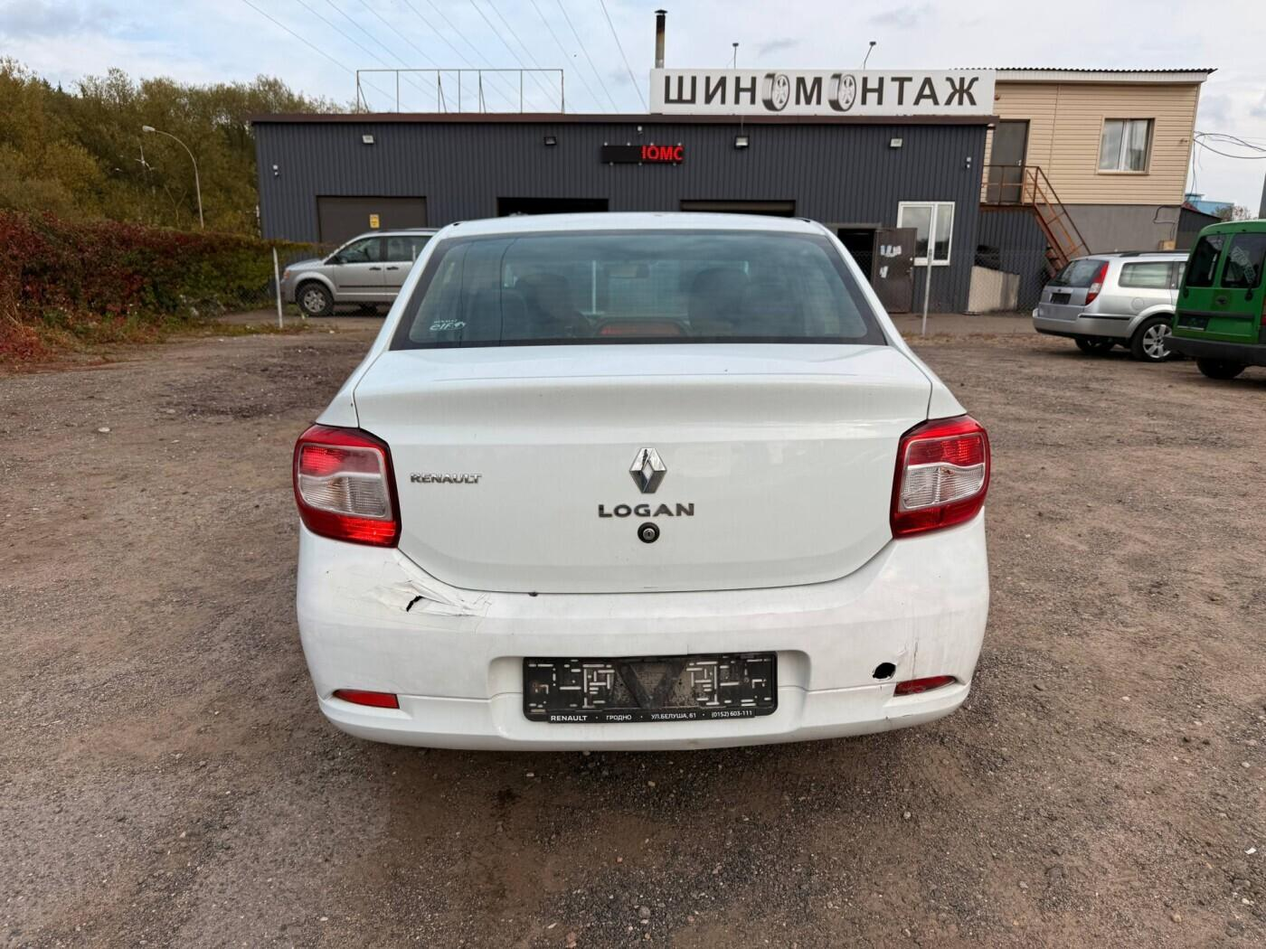Logan_2018: (300, 205, 1008, 764)
